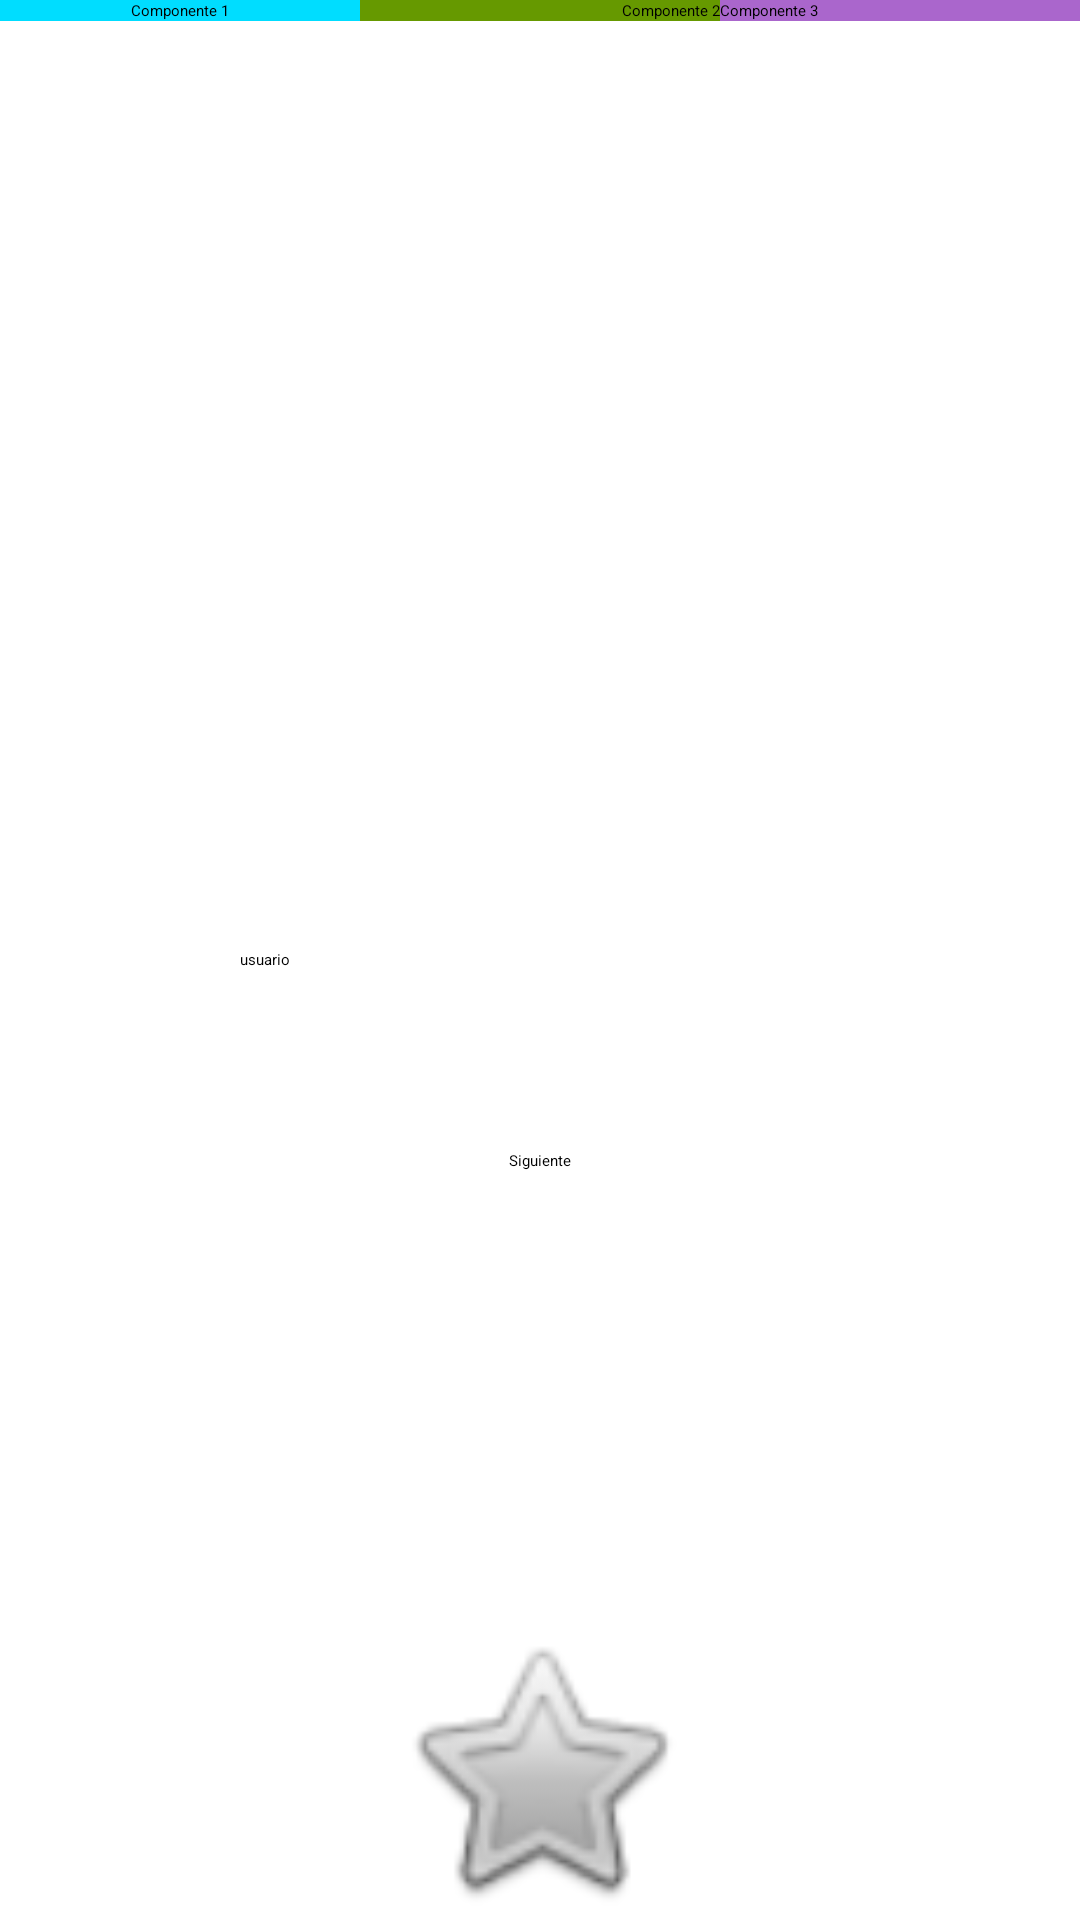

Screen size 1080×1920. Icon name, then its center in pixels as (x=x, y=y):
star: (x=542, y=1772)
